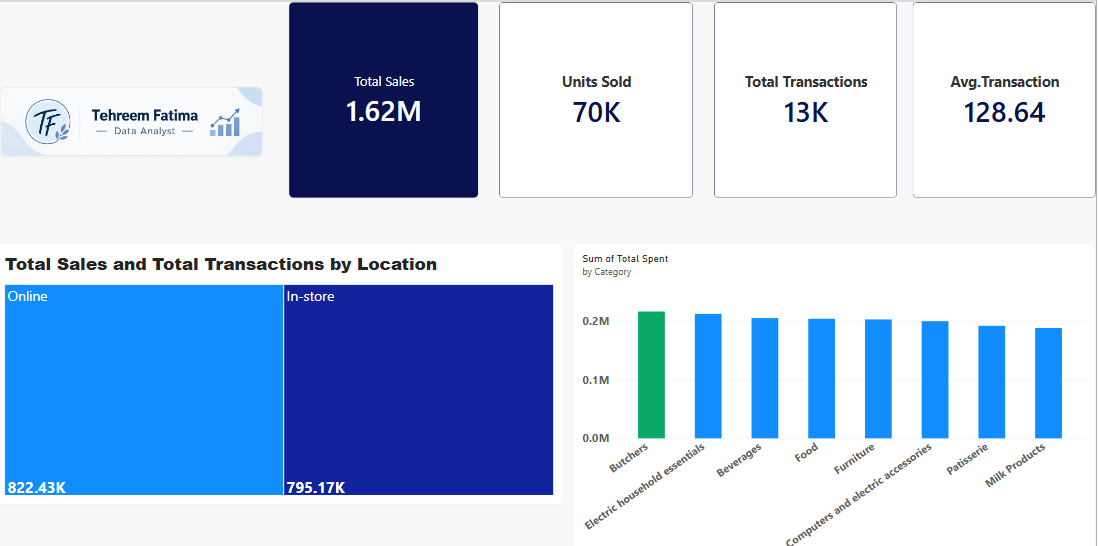

What the dashboard file says about the page in this screenshot:
{"tool":"powerbi","page":{"name":"Page 1","canvas":[1920,1080],"ordinal":0},"visuals":[{"type":"cardVisual","title":"Card Total Sales","fields":{"Data":["retail_store_sales_cleaned.Total Sales"]},"box":[512,0,331,342.4],"z":0,"group":"g1"},{"type":"clusteredColumnChart","fields":{"Category":["retail_store_sales_cleaned.Category"],"Y":["Sum(retail_store_sales_cleaned.Total Spent)"]},"box":[1007.6,420.7,913,567.4],"z":0},{"type":"group","id":"g1","title":"Group 1","box":[512,0,1408.7,342.4],"z":1000},{"type":"cardVisual","title":"Card Units Sold","fields":{"Data":["retail_store_sales_cleaned.Units Sold"]},"box":[878.4,0,339.2,342.4],"z":1000,"group":"g1"},{"type":"treemap","fields":{"Group":["retail_store_sales_cleaned.Location"],"Values":["retail_store_sales_cleaned.Total Sales"]},"box":[0,420.7,991.3,456.5],"z":1001},{"type":"image","box":[0,0,476.1,420.7],"z":1002},{"type":"cardVisual","title":"Card Total Transaction","fields":{"Data":["retail_store_sales_cleaned.Total Transactions"]},"box":[1253.2,0,320.1,342.4],"z":2000,"group":"g1"},{"type":"cardVisual","title":"Card  Avg. Transaction","fields":{"Data":["retail_store_sales_cleaned.Avg.Transaction"]},"box":[1600.6,0,320.1,342.4],"z":3000,"group":"g1"}]}

Visuals, with their boxes on the page's 1920x1080 design canvas (x1, y1, x2, y2). These are canvas units, not pixel positions in the 1098x546 screenshot, which may show the page scaled, cropped or inside an application window:
"Card Total Sales" cardVisual: 512,0,843,342
clusteredColumnChart - retail_store_sales_cleaned.Category x Sum(retail_store_sales_cleaned.Total Spent): 1008,421,1921,988
"Group 1" group: 512,0,1921,342
"Card Units Sold" cardVisual: 878,0,1218,342
treemap - retail_store_sales_cleaned.Location x retail_store_sales_cleaned.Total Sales: 0,421,991,877
image: 0,0,476,421
"Card Total Transaction" cardVisual: 1253,0,1573,342
"Card  Avg. Transaction" cardVisual: 1601,0,1921,342
